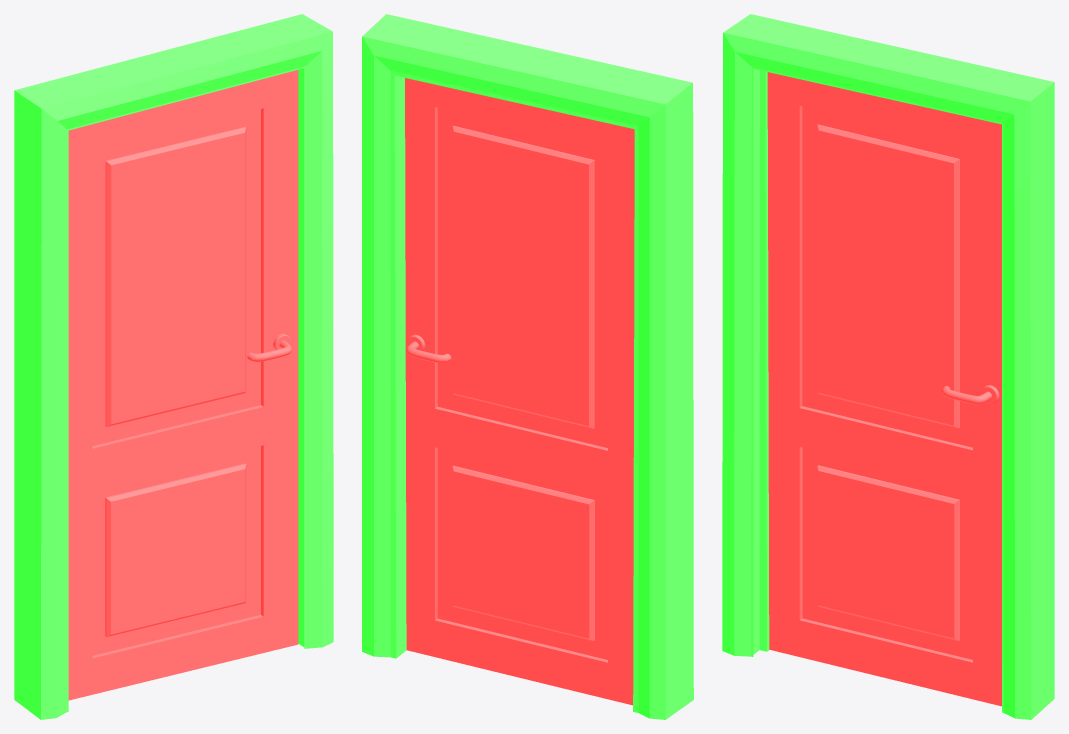
File: Door.FBX
3 renders of one model, left to right at view 1: azimuth 30°, elevation 25°; view 2: azimuth 150°, elevation 25°; view 3: azimuth 330°, elevation 25°, orthographic.
Visible parts, largest first — view 1: Door, Border_Door; view 2: Door, Border_Door; view 3: Door, Border_Door.
Part boxes in pixels (x1,y1,x2,y2): Door: (68, 70, 298, 700); Border_Door: (14, 14, 333, 719); Door: (405, 78, 634, 705); Border_Door: (362, 14, 693, 719); Door: (767, 72, 1001, 706); Border_Door: (722, 14, 1054, 719).
Bounding box in the file's own units: 42.43 × 82.84 × 9.2.
